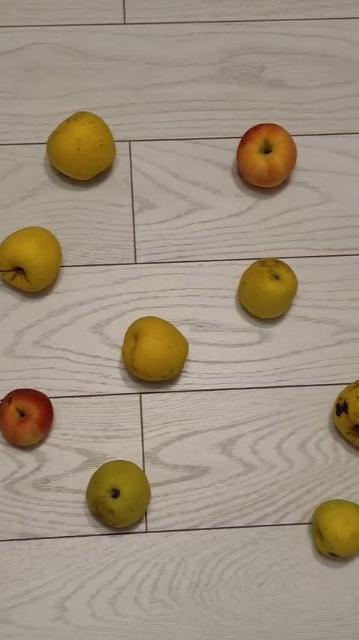apple_green: (46, 110, 116, 181), (85, 459, 151, 528), (121, 316, 188, 381), (0, 224, 62, 291), (238, 257, 299, 318), (311, 499, 359, 558), (333, 377, 359, 445)
apple_red: (235, 122, 297, 188), (0, 388, 54, 446)
